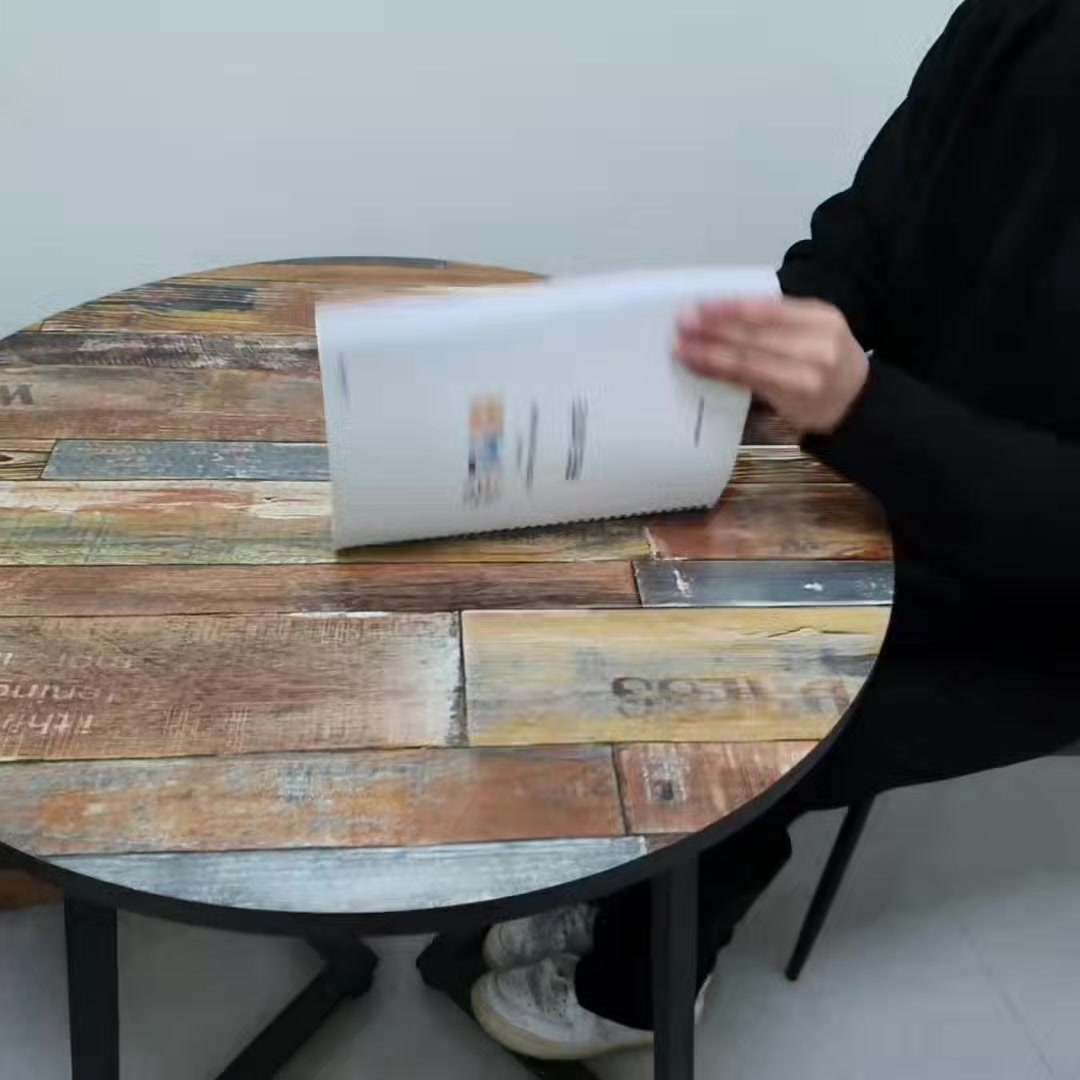book: (294, 226, 821, 565)
